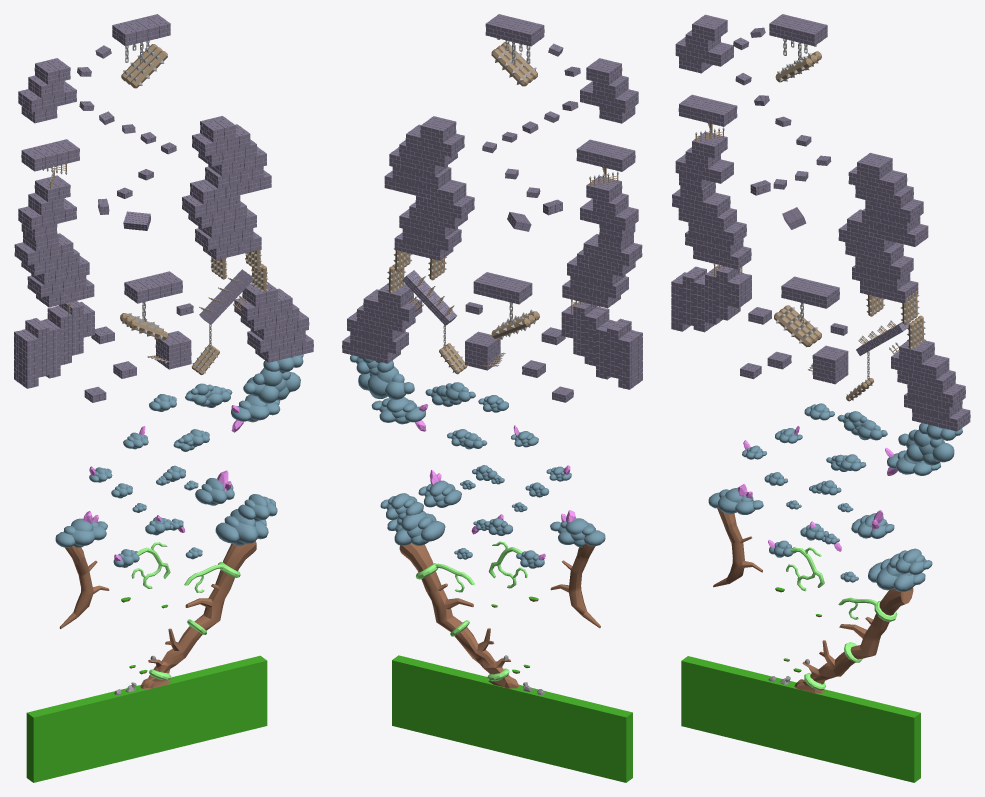
Rendered from world1_final.fbx.
3 renders of one model, left to right at view 1: azimuth 30°, elevation 25°; view 2: azimuth 150°, elevation 25°; view 3: azimuth 330°, elevation 25°, orthographic.
Parts seen in each view (by area): view 1: polySurface2193; view 2: polySurface2193; view 3: polySurface2193.
Part boxes in pixels (x1,y1,x2,y2): polySurface2193: [14, 14, 313, 782]; polySurface2193: [342, 14, 642, 782]; polySurface2193: [671, 14, 970, 782].
Size of the model in its own units: 51105 by 123912 by 8278.
